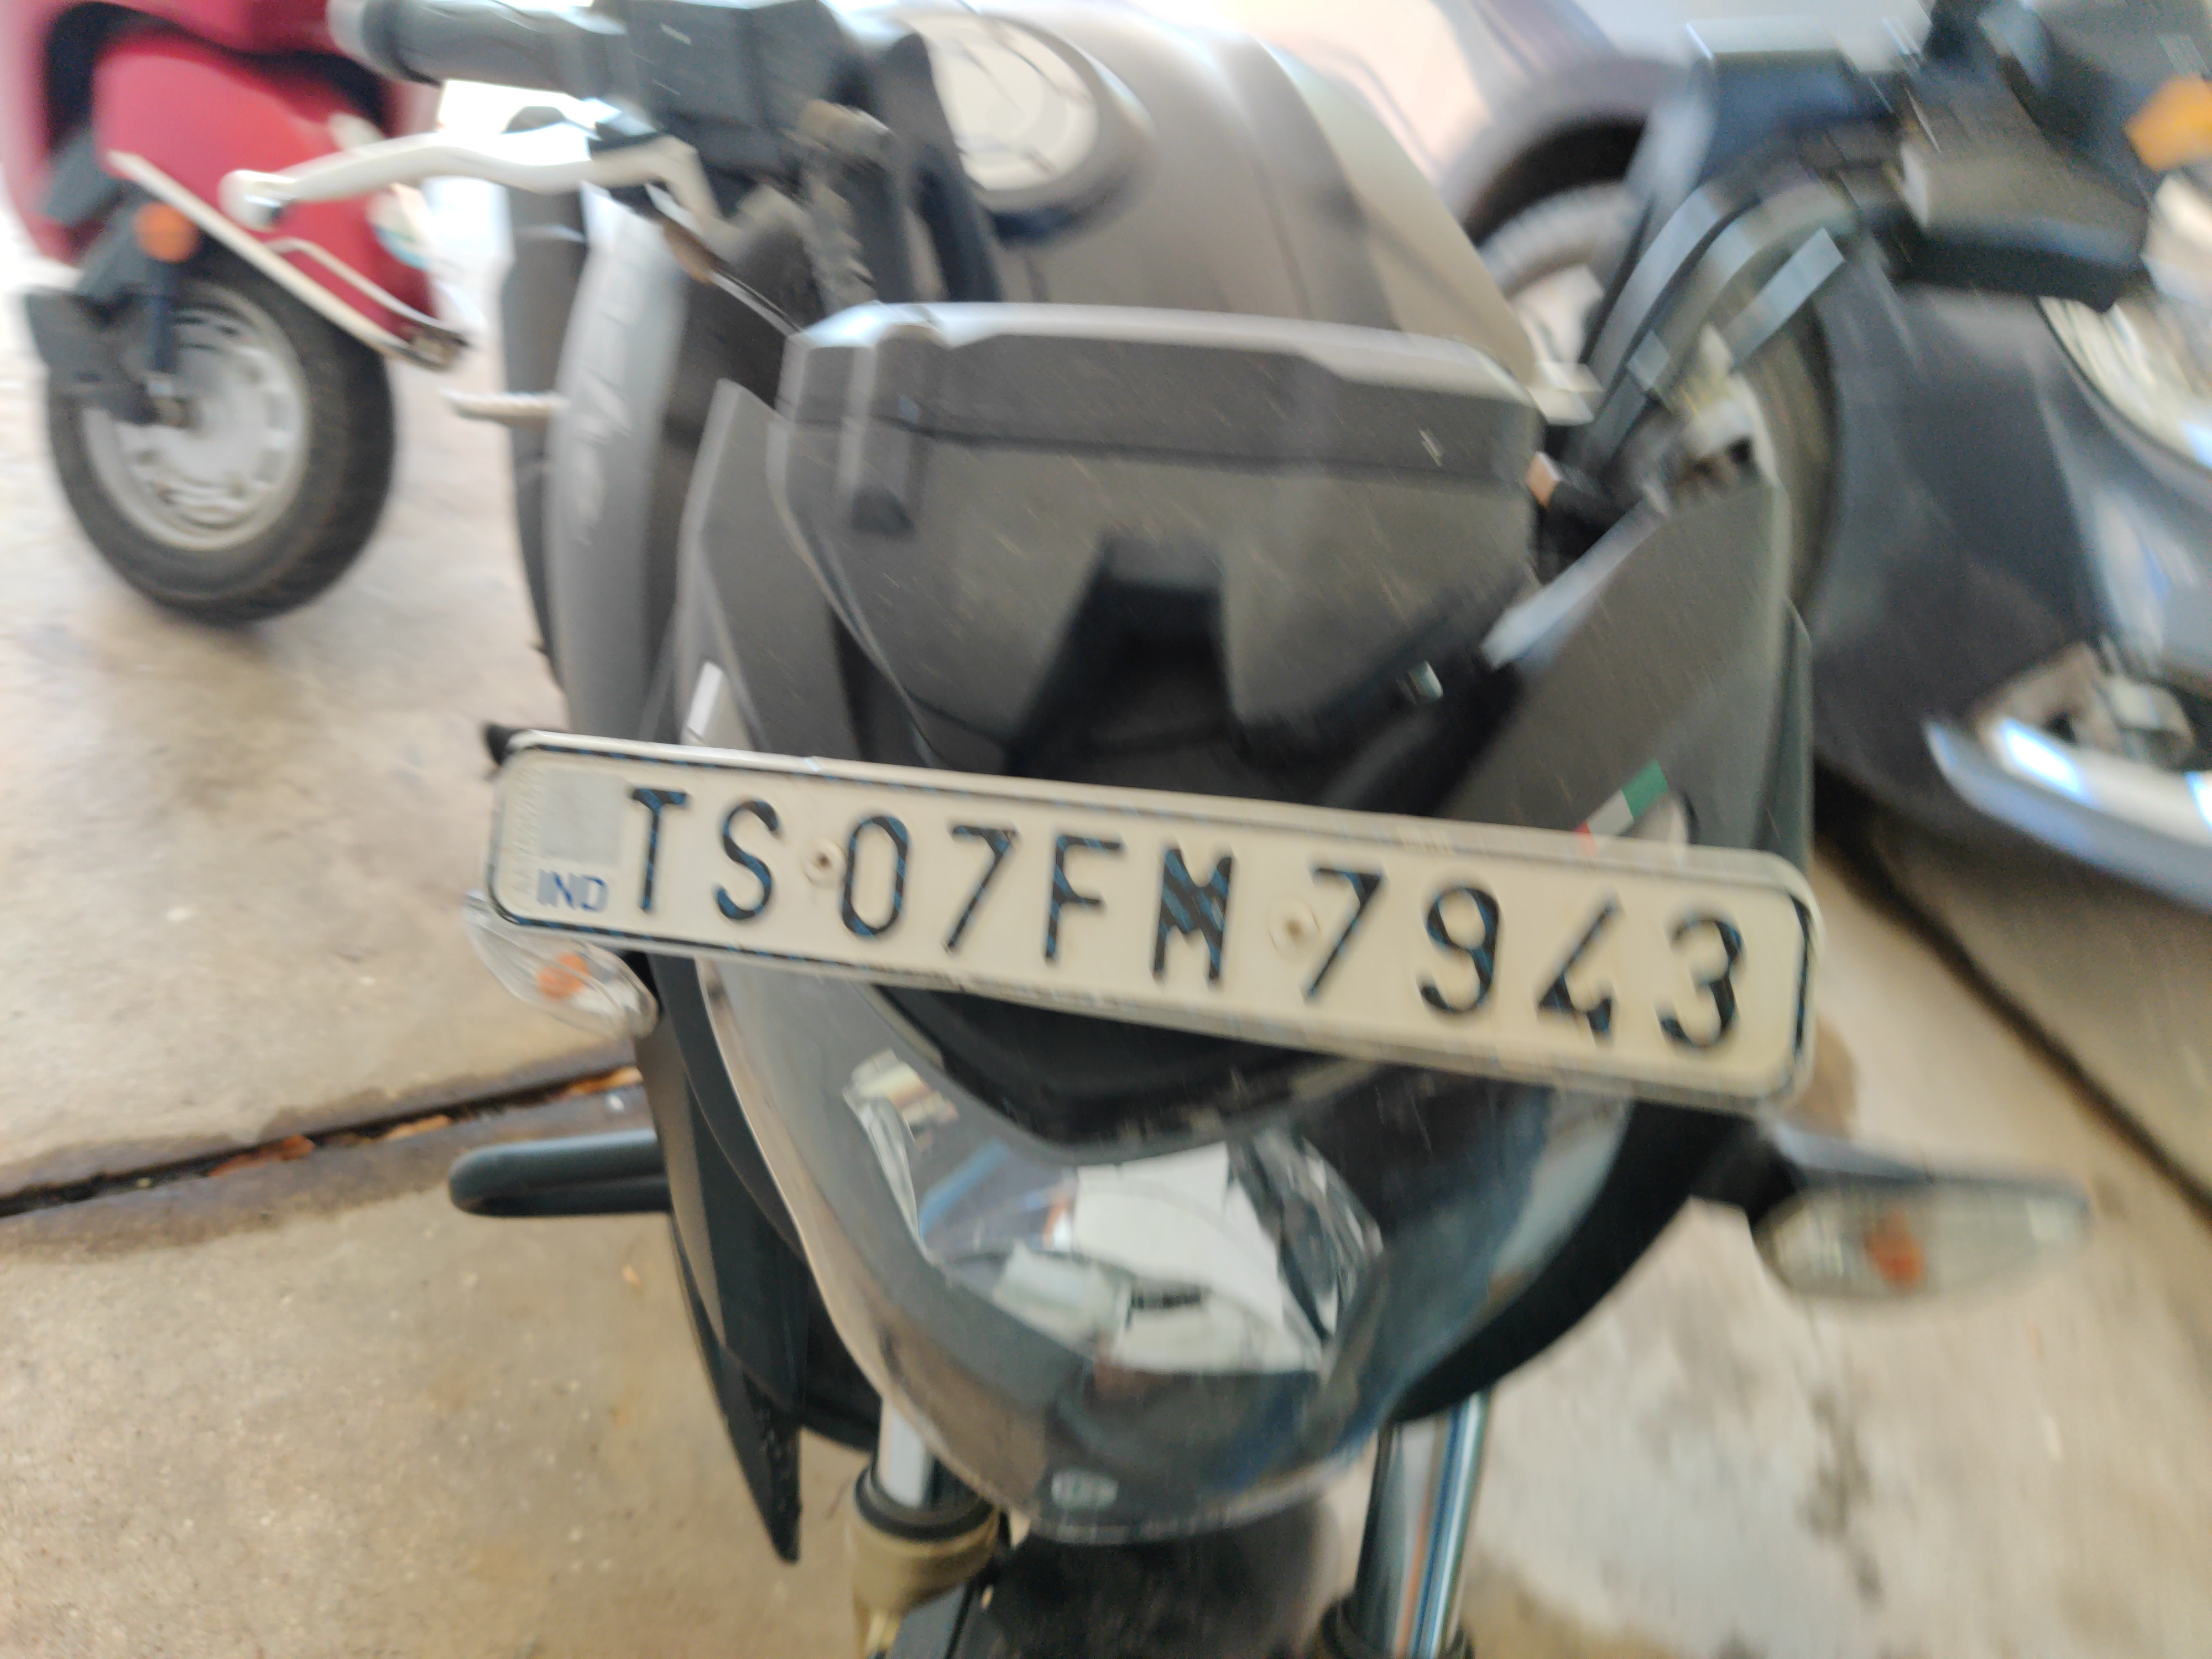plate: (474, 716, 1834, 1126)
